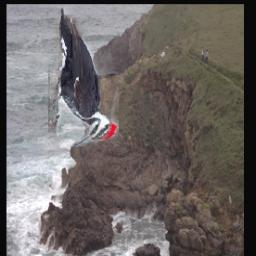Woodpecker: (48, 7, 119, 147)
